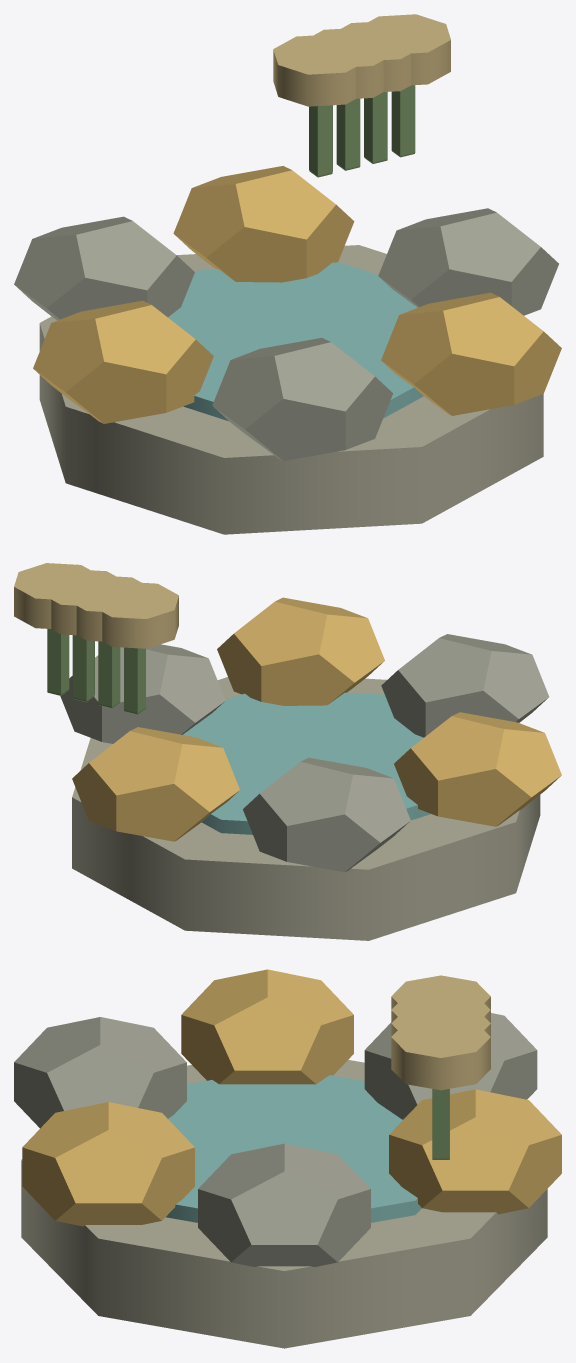
File: riverstones-3.glb
The picture shows the model from 3 angles, top to bottom: view 1: azimuth 30°, elevation 25°; view 2: azimuth 150°, elevation 25°; view 3: azimuth 270°, elevation 25°; orthographic projection. The views are drawn at different scales.
Parts seen in each view (by area): view 1: riverstones-3-0; view 2: riverstones-3-0; view 3: riverstones-3-0.
Part boxes in pixels (x1=…): riverstones-3-0: x1=14, y1=14, x2=561, y2=534; riverstones-3-0: x1=14, y1=563, x2=561, y2=940; riverstones-3-0: x1=14, y1=969, x2=561, y2=1348.
Bounding box in the file's own units: 0.8219 × 0.455 × 0.77.
